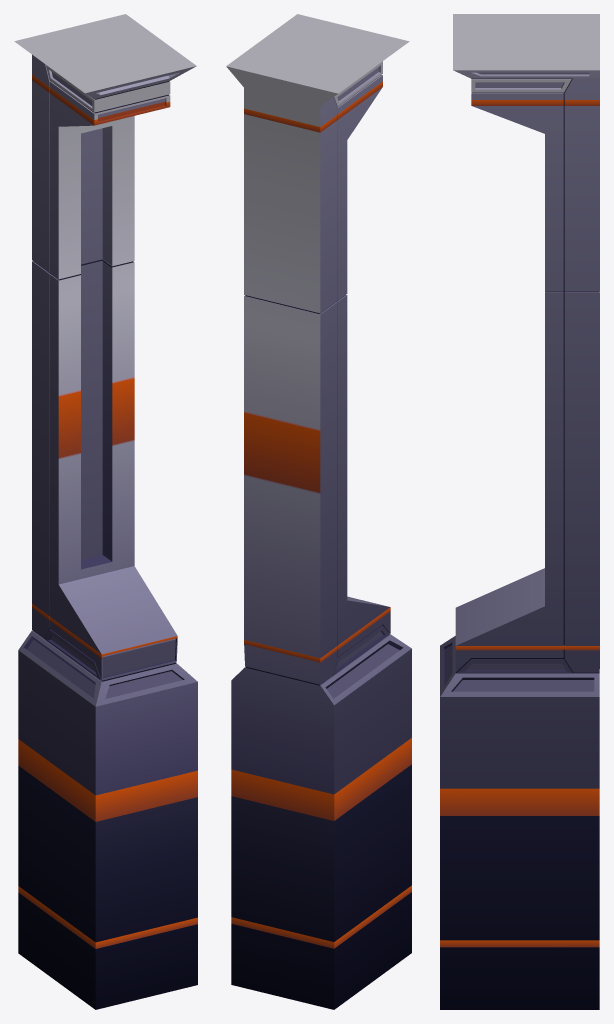
The model's file is Wall_Divider.fbx.
3 renders of one model, left to right at view 1: azimuth 30°, elevation 25°; view 2: azimuth 150°, elevation 25°; view 3: azimuth 270°, elevation 25°, orthographic. The views are drawn at different scales.
Parts seen in each view (by area): view 1: Pillar; view 2: Pillar; view 3: Pillar.
Boxes of the visible parts, x1,y1,x2,y2 form: Pillar: (14, 14, 197, 1009); Pillar: (226, 14, 411, 1009); Pillar: (440, 14, 599, 1009).
Size of the model in its own units: 0.2591 by 2.02 by 0.3106.
1 material, 1 textured.
